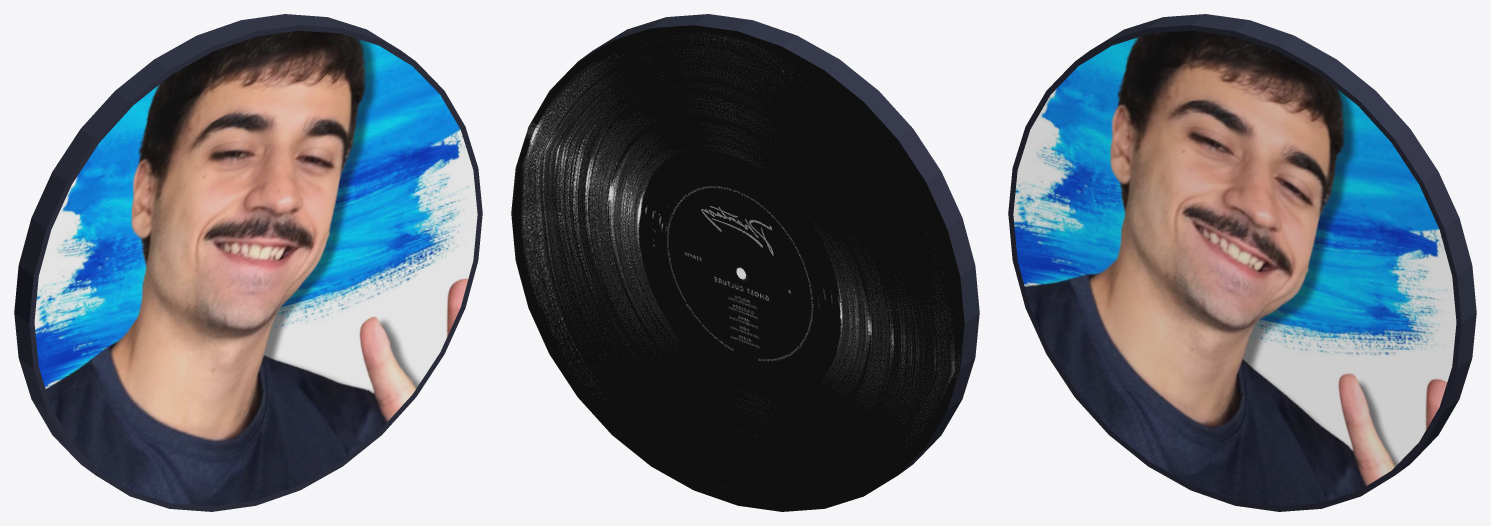
File: FotoGirando.glb
The picture shows the model from 3 angles, left to right: view 1: azimuth 30°, elevation 25°; view 2: azimuth 150°, elevation 25°; view 3: azimuth 330°, elevation 25°; orthographic projection.
Parts seen in each view (by area): view 1: Cylinder.001, Cylinder; view 2: Cylinder.002, Cylinder; view 3: Cylinder.001, Cylinder.
Boxes of the visible parts, <box> form: Cylinder.001: <box>34,30,477,506</box>; Cylinder: <box>14,14,482,511</box>; Cylinder.002: <box>511,25,964,511</box>; Cylinder: <box>579,14,979,474</box>; Cylinder.001: <box>1013,30,1456,506</box>; Cylinder: <box>1008,14,1476,511</box>.
Bounding box in the file's own units: 2 × 2 × 0.1157.
Materials: 3 (2 with a texture image).
